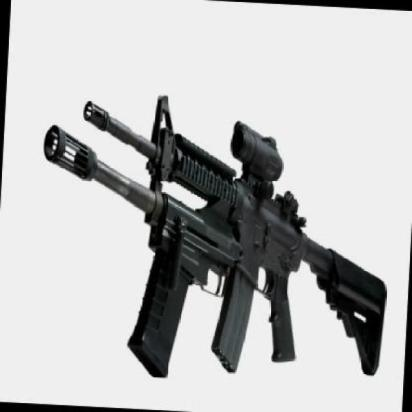Gun: (27, 55, 399, 394)
